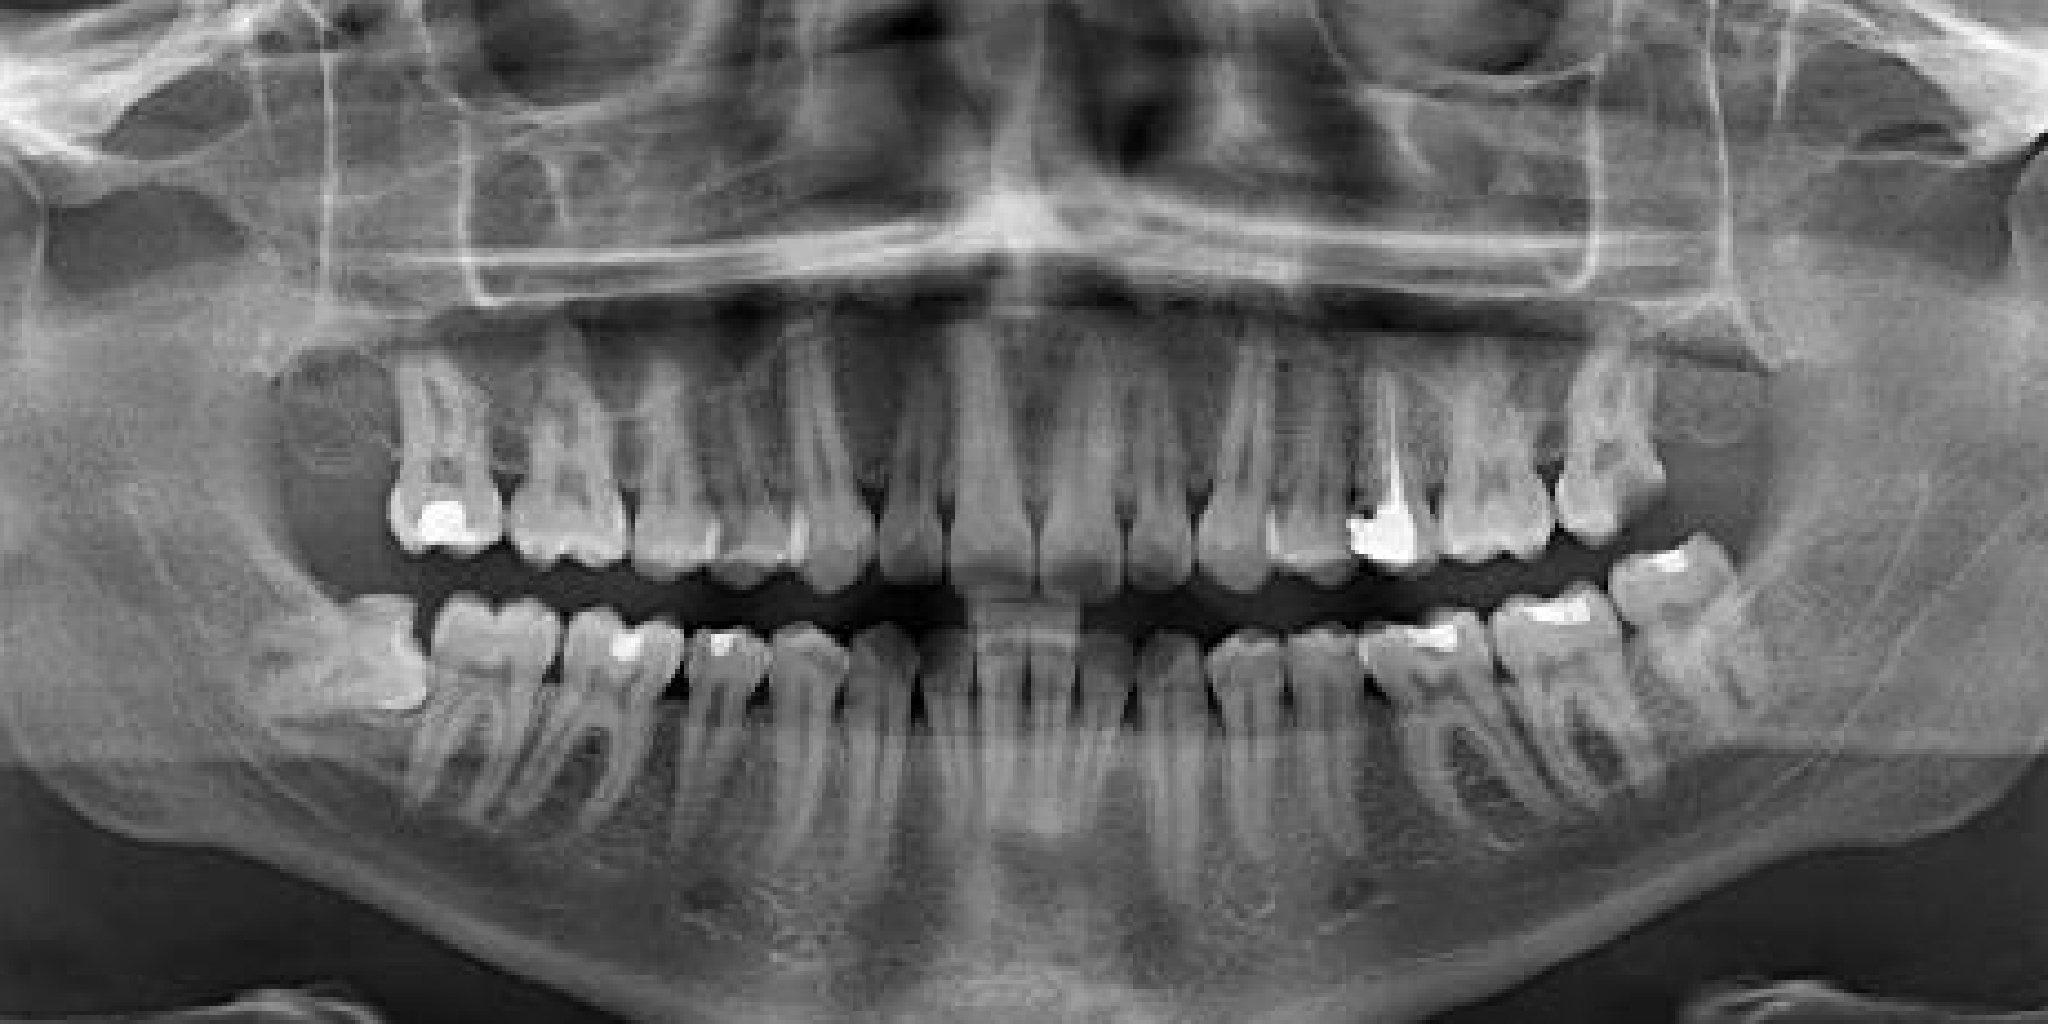Tooth: (1266, 521, 1674, 956), (110, 474, 515, 912), (293, 502, 643, 948), (1411, 495, 1755, 940), (1552, 436, 1855, 876), (280, 217, 583, 657), (1115, 222, 1382, 650), (684, 222, 946, 648), (961, 537, 1221, 963), (609, 242, 869, 667), (1488, 195, 1742, 619), (666, 550, 920, 974), (747, 569, 994, 990), (856, 231, 1102, 652), (1055, 586, 1297, 1004), (444, 226, 684, 645), (936, 556, 1170, 973), (884, 536, 1118, 952), (965, 243, 1199, 660), (1275, 236, 1502, 650), (799, 253, 1027, 667), (1371, 225, 1599, 637), (560, 235, 788, 648), (1203, 236, 1424, 647), (1048, 259, 1262, 666)
